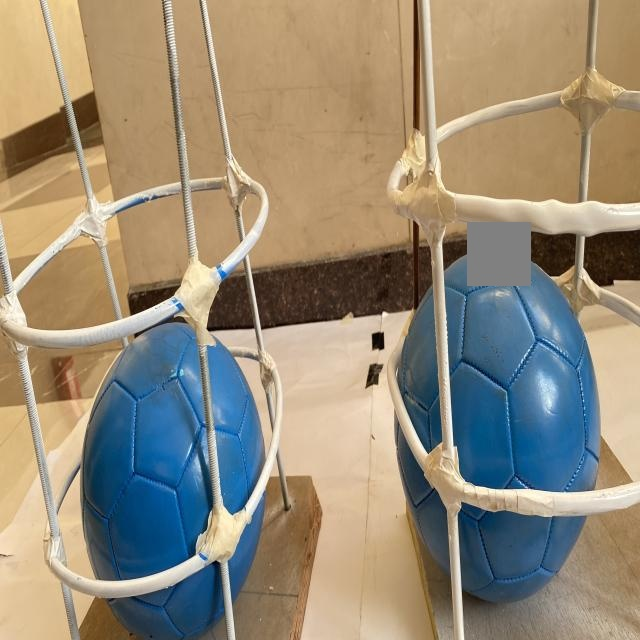blue_ball: (395, 244, 602, 587), (79, 313, 268, 636)
silo: (0, 0, 326, 640), (386, 0, 640, 640)
